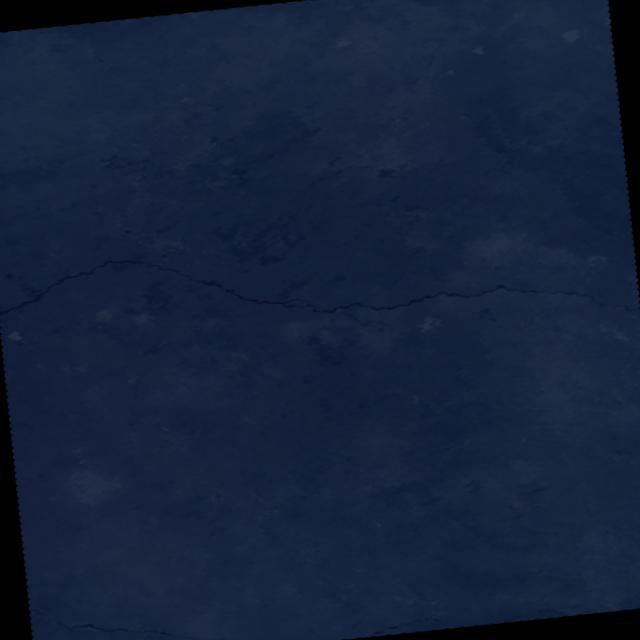crack: (0, 205, 640, 382), (28, 583, 257, 640), (371, 616, 444, 635)
